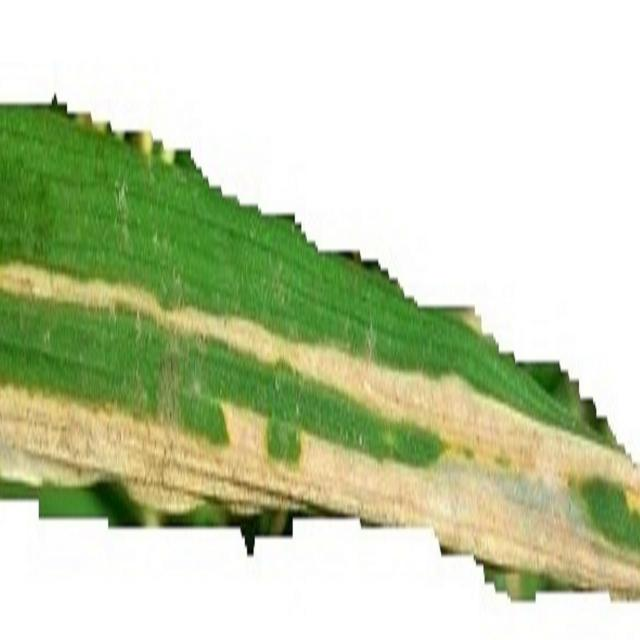leaf blight: (0, 229, 640, 599)
